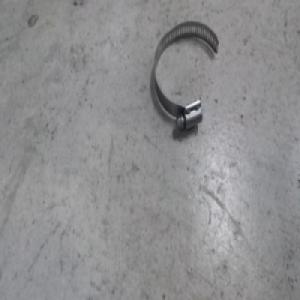AdjustableClamp: (151, 15, 220, 123)
